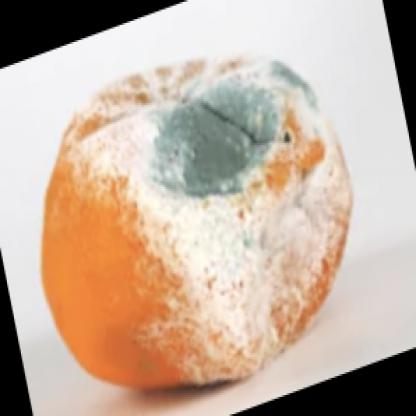rotten_orange: (36, 39, 357, 396)
